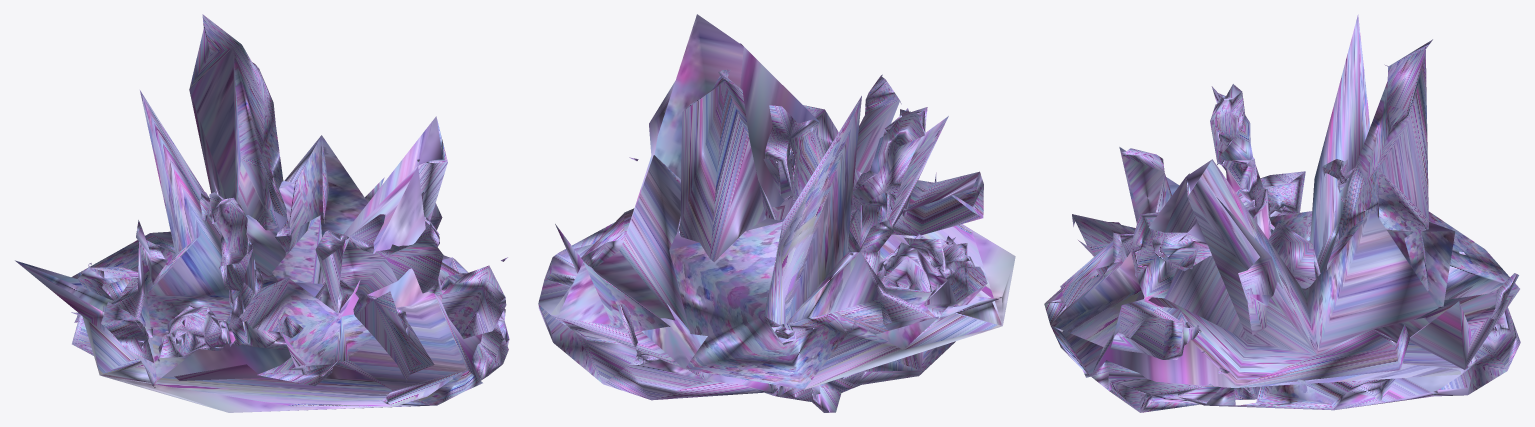
File: A_garden_of_cryst.glb
3 views of the same model, side by side, from view 1: azimuth 30°, elevation 25°; view 2: azimuth 150°, elevation 25°; view 3: azimuth 270°, elevation 25° (orthographic). The views are drawn at different scales.
Parts seen in each view (by area): view 1: A_garden_of_cryst; view 2: A_garden_of_cryst; view 3: A_garden_of_cryst.
Boxes of the visible parts, x1,y1,x2,y2 form: A_garden_of_cryst: [15, 14, 509, 412]; A_garden_of_cryst: [538, 14, 1015, 412]; A_garden_of_cryst: [1044, 14, 1520, 412].
Size of the model in its own units: 1.72 by 1.17 by 1.71.
1 material, 1 textured.
